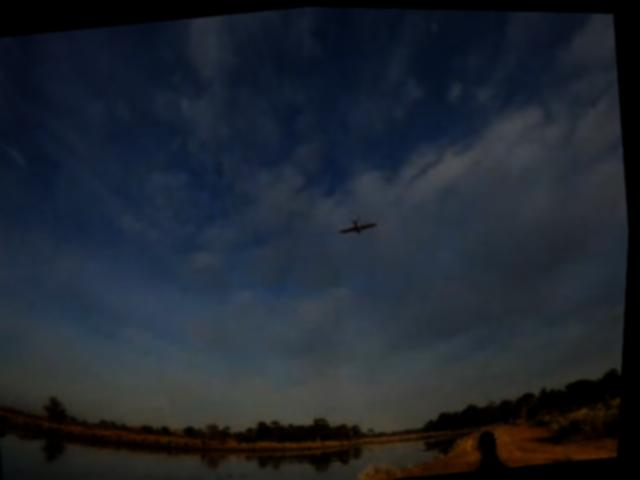uav: (338, 212, 384, 237)
